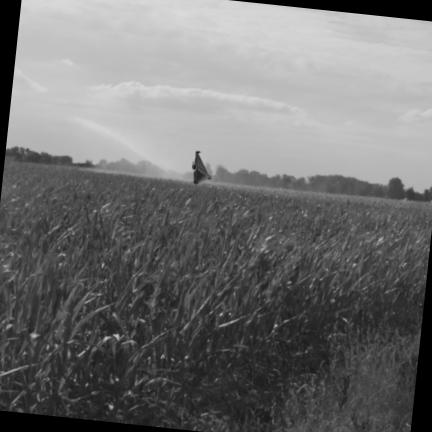Shahed: (193, 151, 211, 183)
